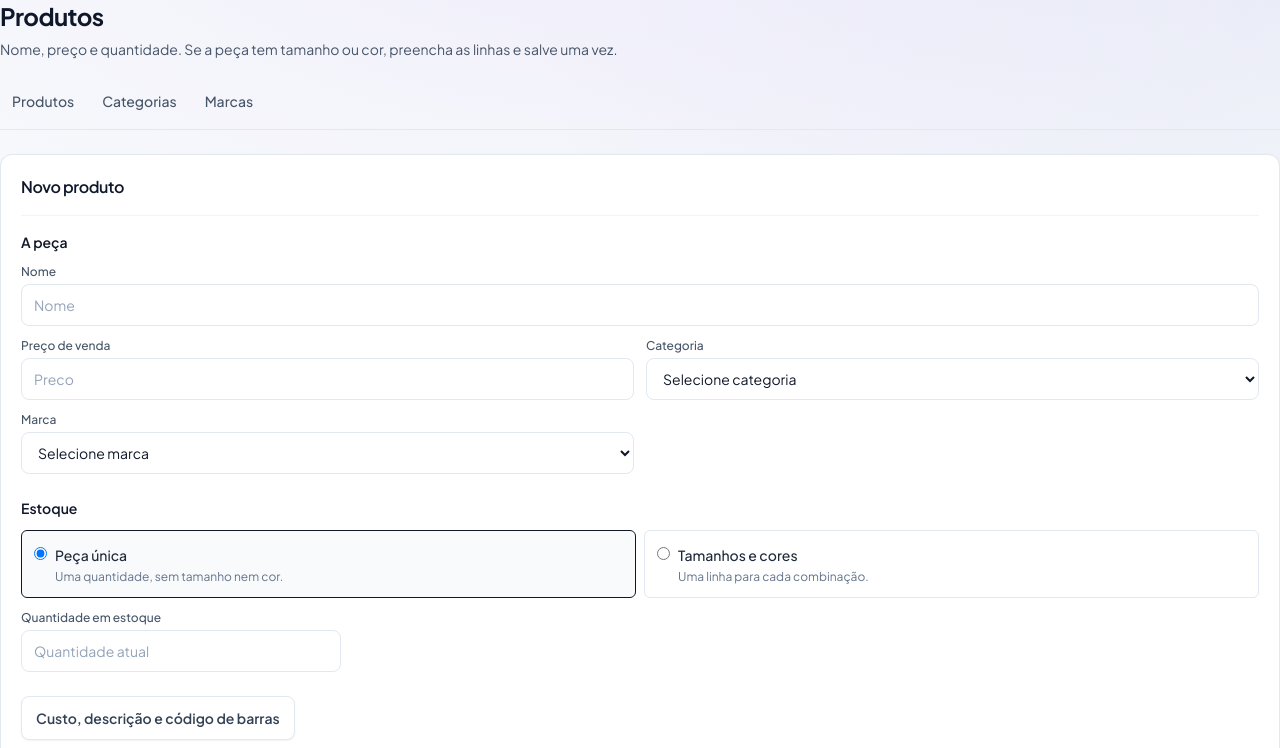
Test case: ProductsPage — cadastro com tamanho e cor › mostra tamanho e cor no novo produto, sem precisar salvar antes
Expected: the heading "Produtos" is shown, [0, 0, 104, 32]
Expected: the field with placeholder "P, M, 38..." is not shown
Click the radio button labelled "Tamanhos e cores Uma linha para cada combinação." at (664, 553), box [657, 547, 670, 560]
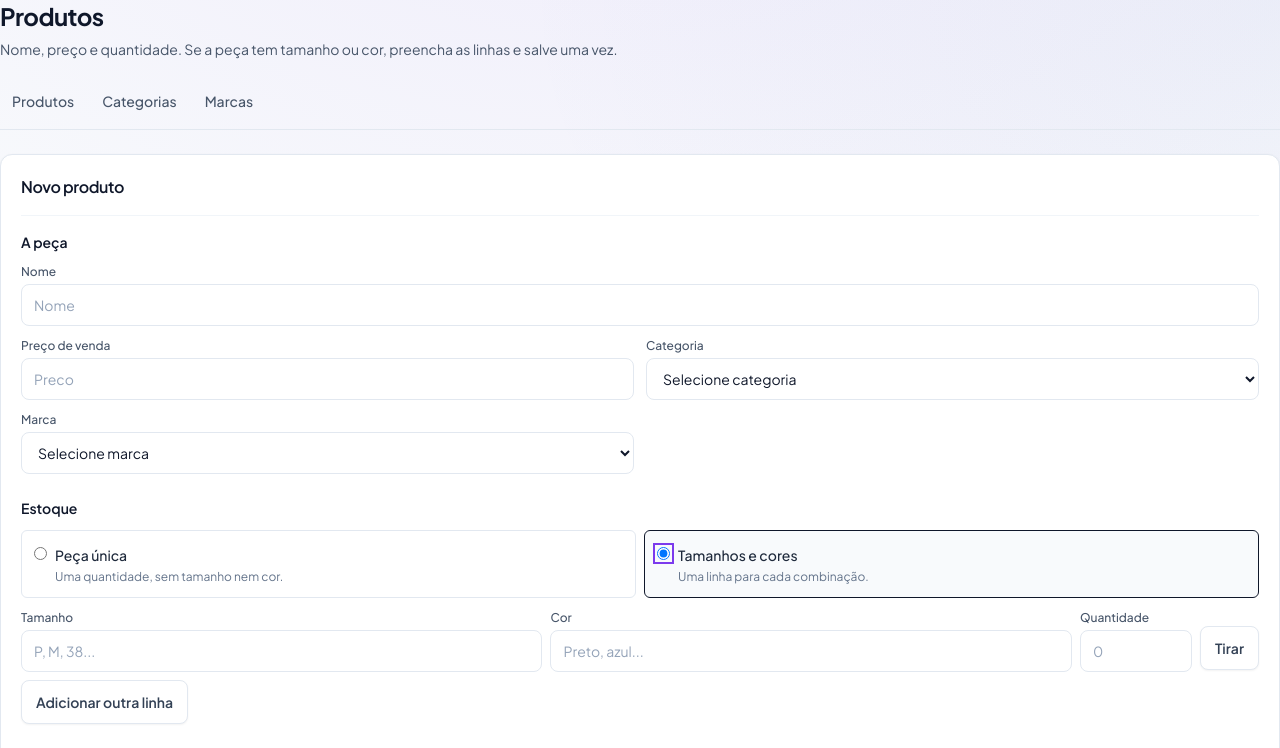
Expected: the field with placeholder "P, M, 38..." is shown, [21, 630, 542, 672]
Expected: the field with placeholder "Preto, azul..." is shown, [550, 630, 1072, 672]
